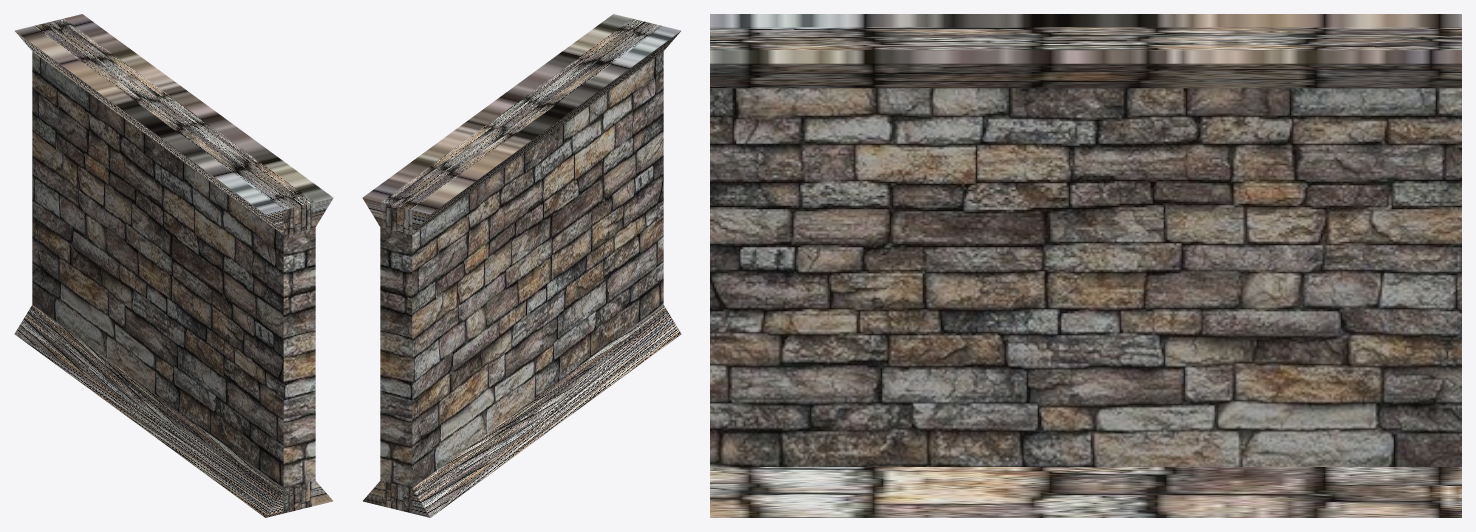
File: wall.obj
The picture shows the model from 3 angles, left to right: view 1: azimuth 30°, elevation 25°; view 2: azimuth 150°, elevation 25°; view 3: azimuth 270°, elevation 25°; orthographic projection. The views are drawn at different scales.
Visible parts, largest first — view 1: Cube; view 2: Cube; view 3: Cube.
Part boxes in pixels (left/top/right/bottom): Cube: left=14, top=14, right=333, bottom=517; Cube: left=362, top=14, right=681, bottom=517; Cube: left=710, top=14, right=1461, bottom=517.
Size of the model in its own units: 0.94 by 4 by 6.
